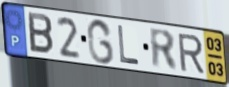2: (55, 16, 82, 59)
B: (27, 10, 55, 57)
G: (85, 18, 115, 66)
L: (116, 23, 141, 67)
R: (147, 26, 180, 73), (176, 32, 206, 75)
